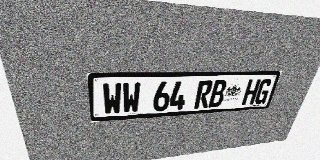4: (169, 81, 188, 110)
6: (153, 81, 172, 112)
B: (208, 80, 228, 108)
G: (253, 79, 273, 104)
H: (241, 79, 261, 105)
R: (194, 80, 213, 109)
W: (102, 83, 122, 115), (122, 82, 141, 114)
